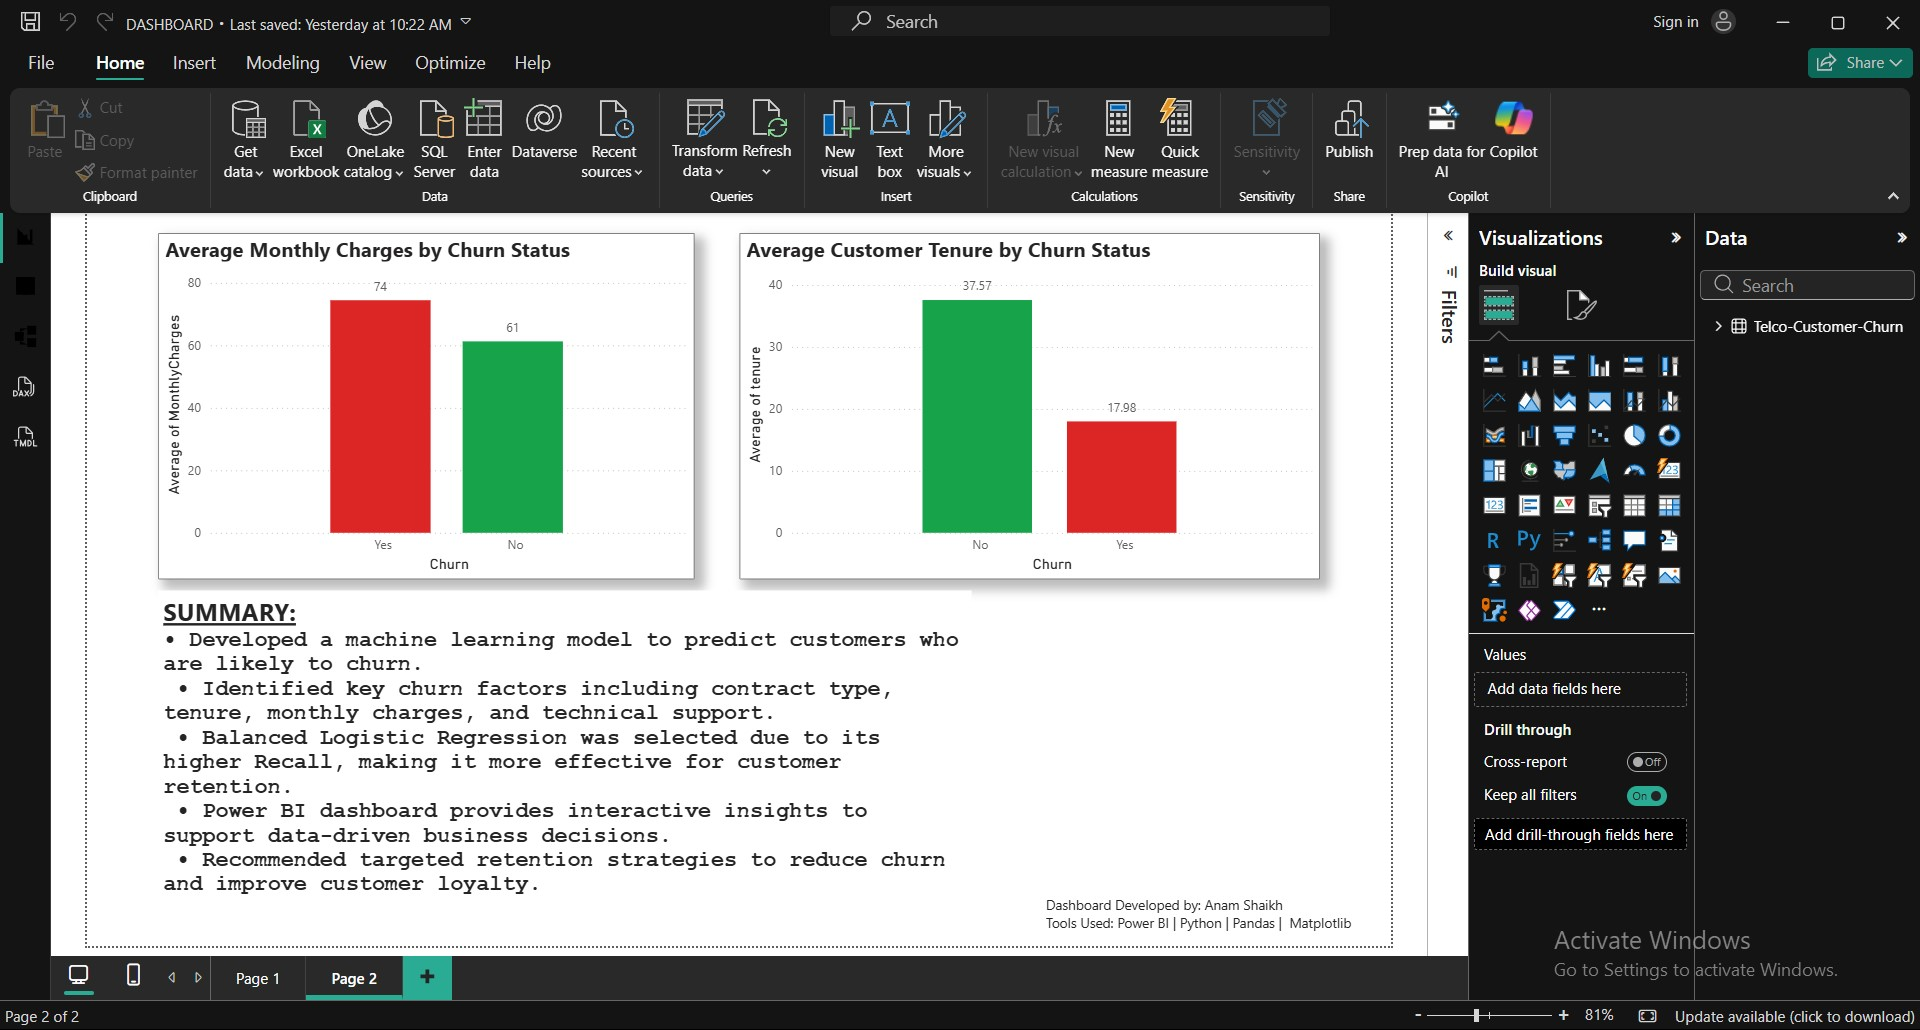

Layout of this report page (visuals, bound fields, positions):
{"tool":"powerbi","page":{"name":"Page 2","canvas":[1280,720],"ordinal":1},"visuals":[{"type":"clusteredColumnChart","title":"Average Monthly Charges by Churn Status","fields":{"Category":["Telco-Customer-Churn.Churn"],"Y":["Avg(Telco-Customer-Churn.MonthlyCharges)"]},"box":[69.9,19.6,526.4,339.9],"z":1},{"type":"clusteredColumnChart","title":"Average Customer Tenure by Churn Status","fields":{"Category":["Telco-Customer-Churn.Churn"],"Y":["Avg(Telco-Customer-Churn.tenure)"]},"box":[640.5,19.6,569.3,339.9],"z":2},{"type":"textbox","box":[936.2,665,322.7,45.4],"z":3},{"type":"textbox","box":[69.9,370.6,798.8,330.1],"z":4}]}

Visuals, with their boxes on the page's 1280x720 design canvas (x1, y1, x2, y2). These are canvas units, not pixel positions in the 1920x1030 screenshot, which may show the page scaled, cropped or inside an application window:
"Average Monthly Charges by Churn Status" clusteredColumnChart: left=70, top=20, right=596, bottom=360
"Average Customer Tenure by Churn Status" clusteredColumnChart: left=640, top=20, right=1210, bottom=360
textbox: left=936, top=665, right=1259, bottom=710
textbox: left=70, top=371, right=869, bottom=701
